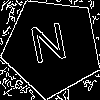N: (27, 21, 71, 73)
